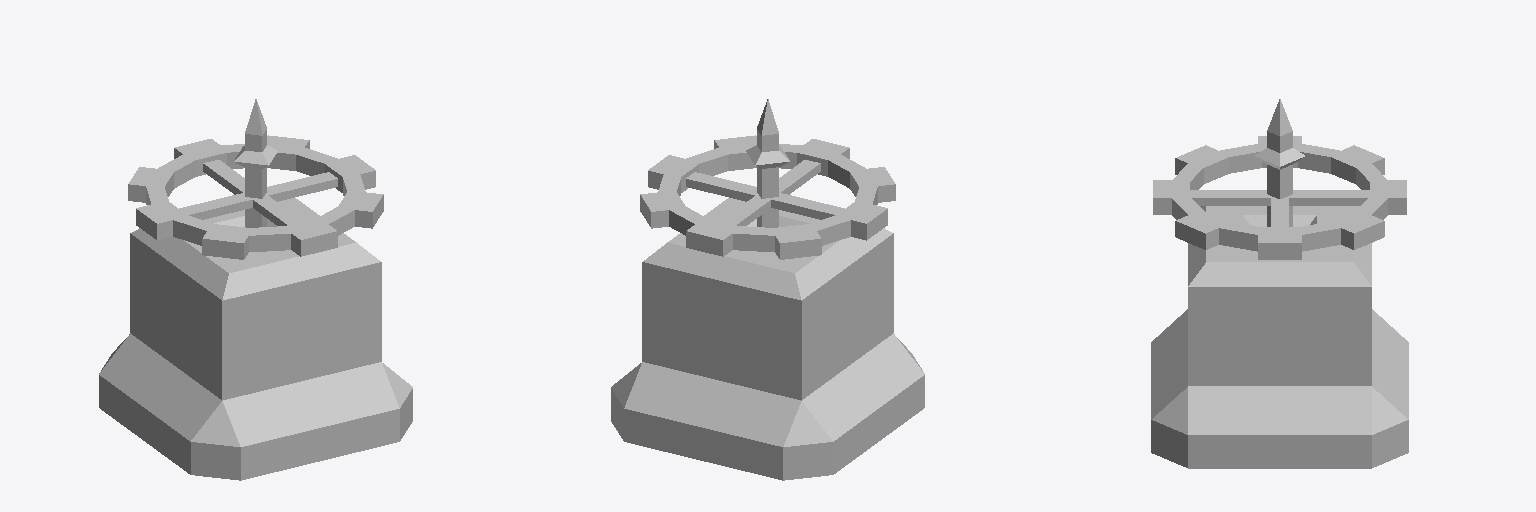
Rendered from circle_toil_inventory.obj.
3 views of the same model, side by side, from view 1: azimuth 30°, elevation 25°; view 2: azimuth 150°, elevation 25°; view 3: azimuth 270°, elevation 25° (orthographic).
Parts seen in each view (by area): view 1: CIRCLE_TOIL_BODY_Cube.044, CIRCLE_TOIL_COG_NOHANDLE_Cube.047; view 2: CIRCLE_TOIL_BODY_Cube.044, CIRCLE_TOIL_COG_NOHANDLE_Cube.047; view 3: CIRCLE_TOIL_BODY_Cube.044, CIRCLE_TOIL_COG_NOHANDLE_Cube.047.
Part boxes in pixels (bbox=[...]): CIRCLE_TOIL_BODY_Cube.044: bbox=[99, 198, 412, 480]; CIRCLE_TOIL_COG_NOHANDLE_Cube.047: bbox=[128, 99, 383, 259]; CIRCLE_TOIL_BODY_Cube.044: bbox=[611, 198, 924, 480]; CIRCLE_TOIL_COG_NOHANDLE_Cube.047: bbox=[640, 99, 895, 259]; CIRCLE_TOIL_BODY_Cube.044: bbox=[1151, 206, 1408, 468]; CIRCLE_TOIL_COG_NOHANDLE_Cube.047: bbox=[1153, 99, 1406, 259].
Size of the model in its own units: 0.875 by 1.19 by 0.875.